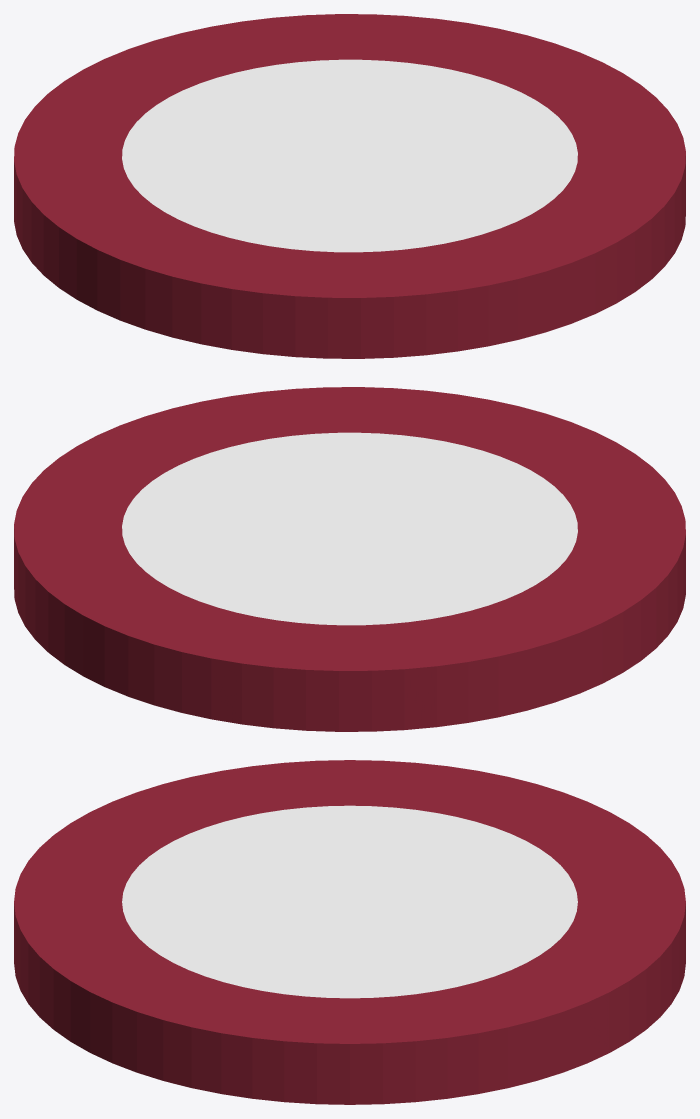
The model's file is Target.glb.
3 renders of one model, top to bottom at view 1: azimuth 30°, elevation 25°; view 2: azimuth 150°, elevation 25°; view 3: azimuth 270°, elevation 25°, orthographic.
Parts seen in each view (by area): view 1: Cylinder; view 2: Cylinder; view 3: Cylinder.
Boxes of the visible parts, x1,y1,x2,y2 form: Cylinder: (14, 14, 685, 358); Cylinder: (14, 387, 685, 731); Cylinder: (14, 760, 685, 1104).
Size of the model in its own units: 2 by 0.2 by 2.
